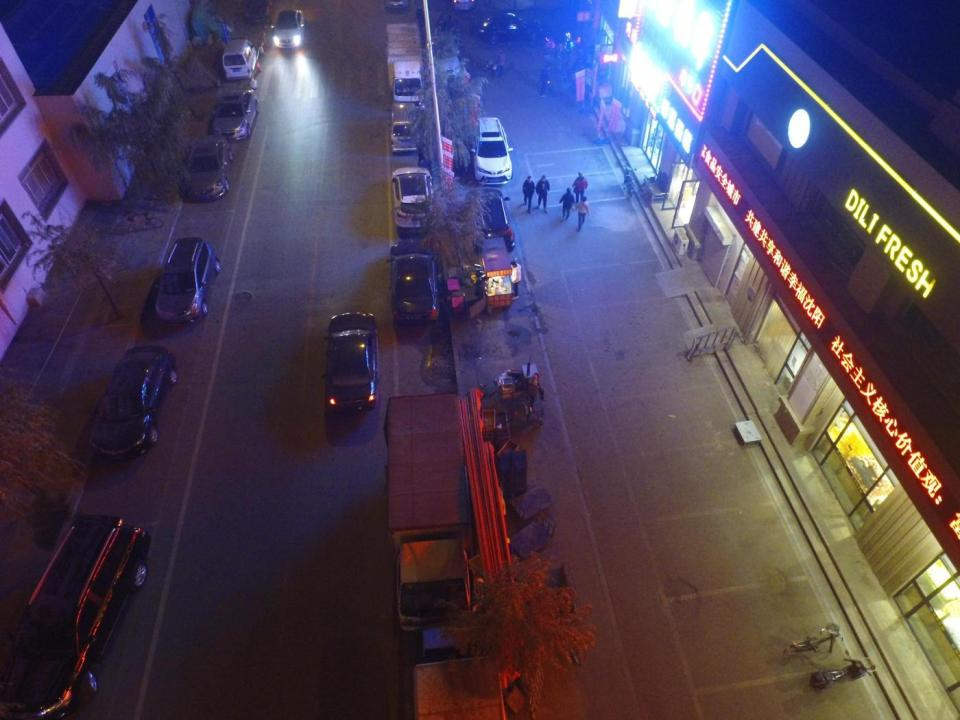car: (88, 345, 178, 459), (325, 312, 379, 410), (387, 239, 437, 323), (390, 166, 435, 233), (186, 134, 232, 199), (213, 88, 259, 142), (425, 34, 460, 79), (273, 11, 304, 48), (243, 0, 272, 25)
truck: (382, 394, 476, 633), (412, 623, 508, 719), (385, 22, 426, 112)
van: (0, 513, 149, 720), (154, 238, 222, 324), (463, 187, 514, 253), (470, 117, 513, 185), (478, 9, 542, 44), (390, 102, 419, 152), (222, 40, 256, 80)
